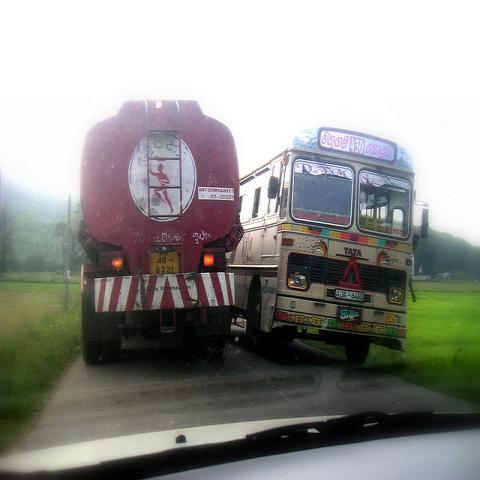bus: (233, 131, 413, 360)
truck: (79, 102, 242, 365)
